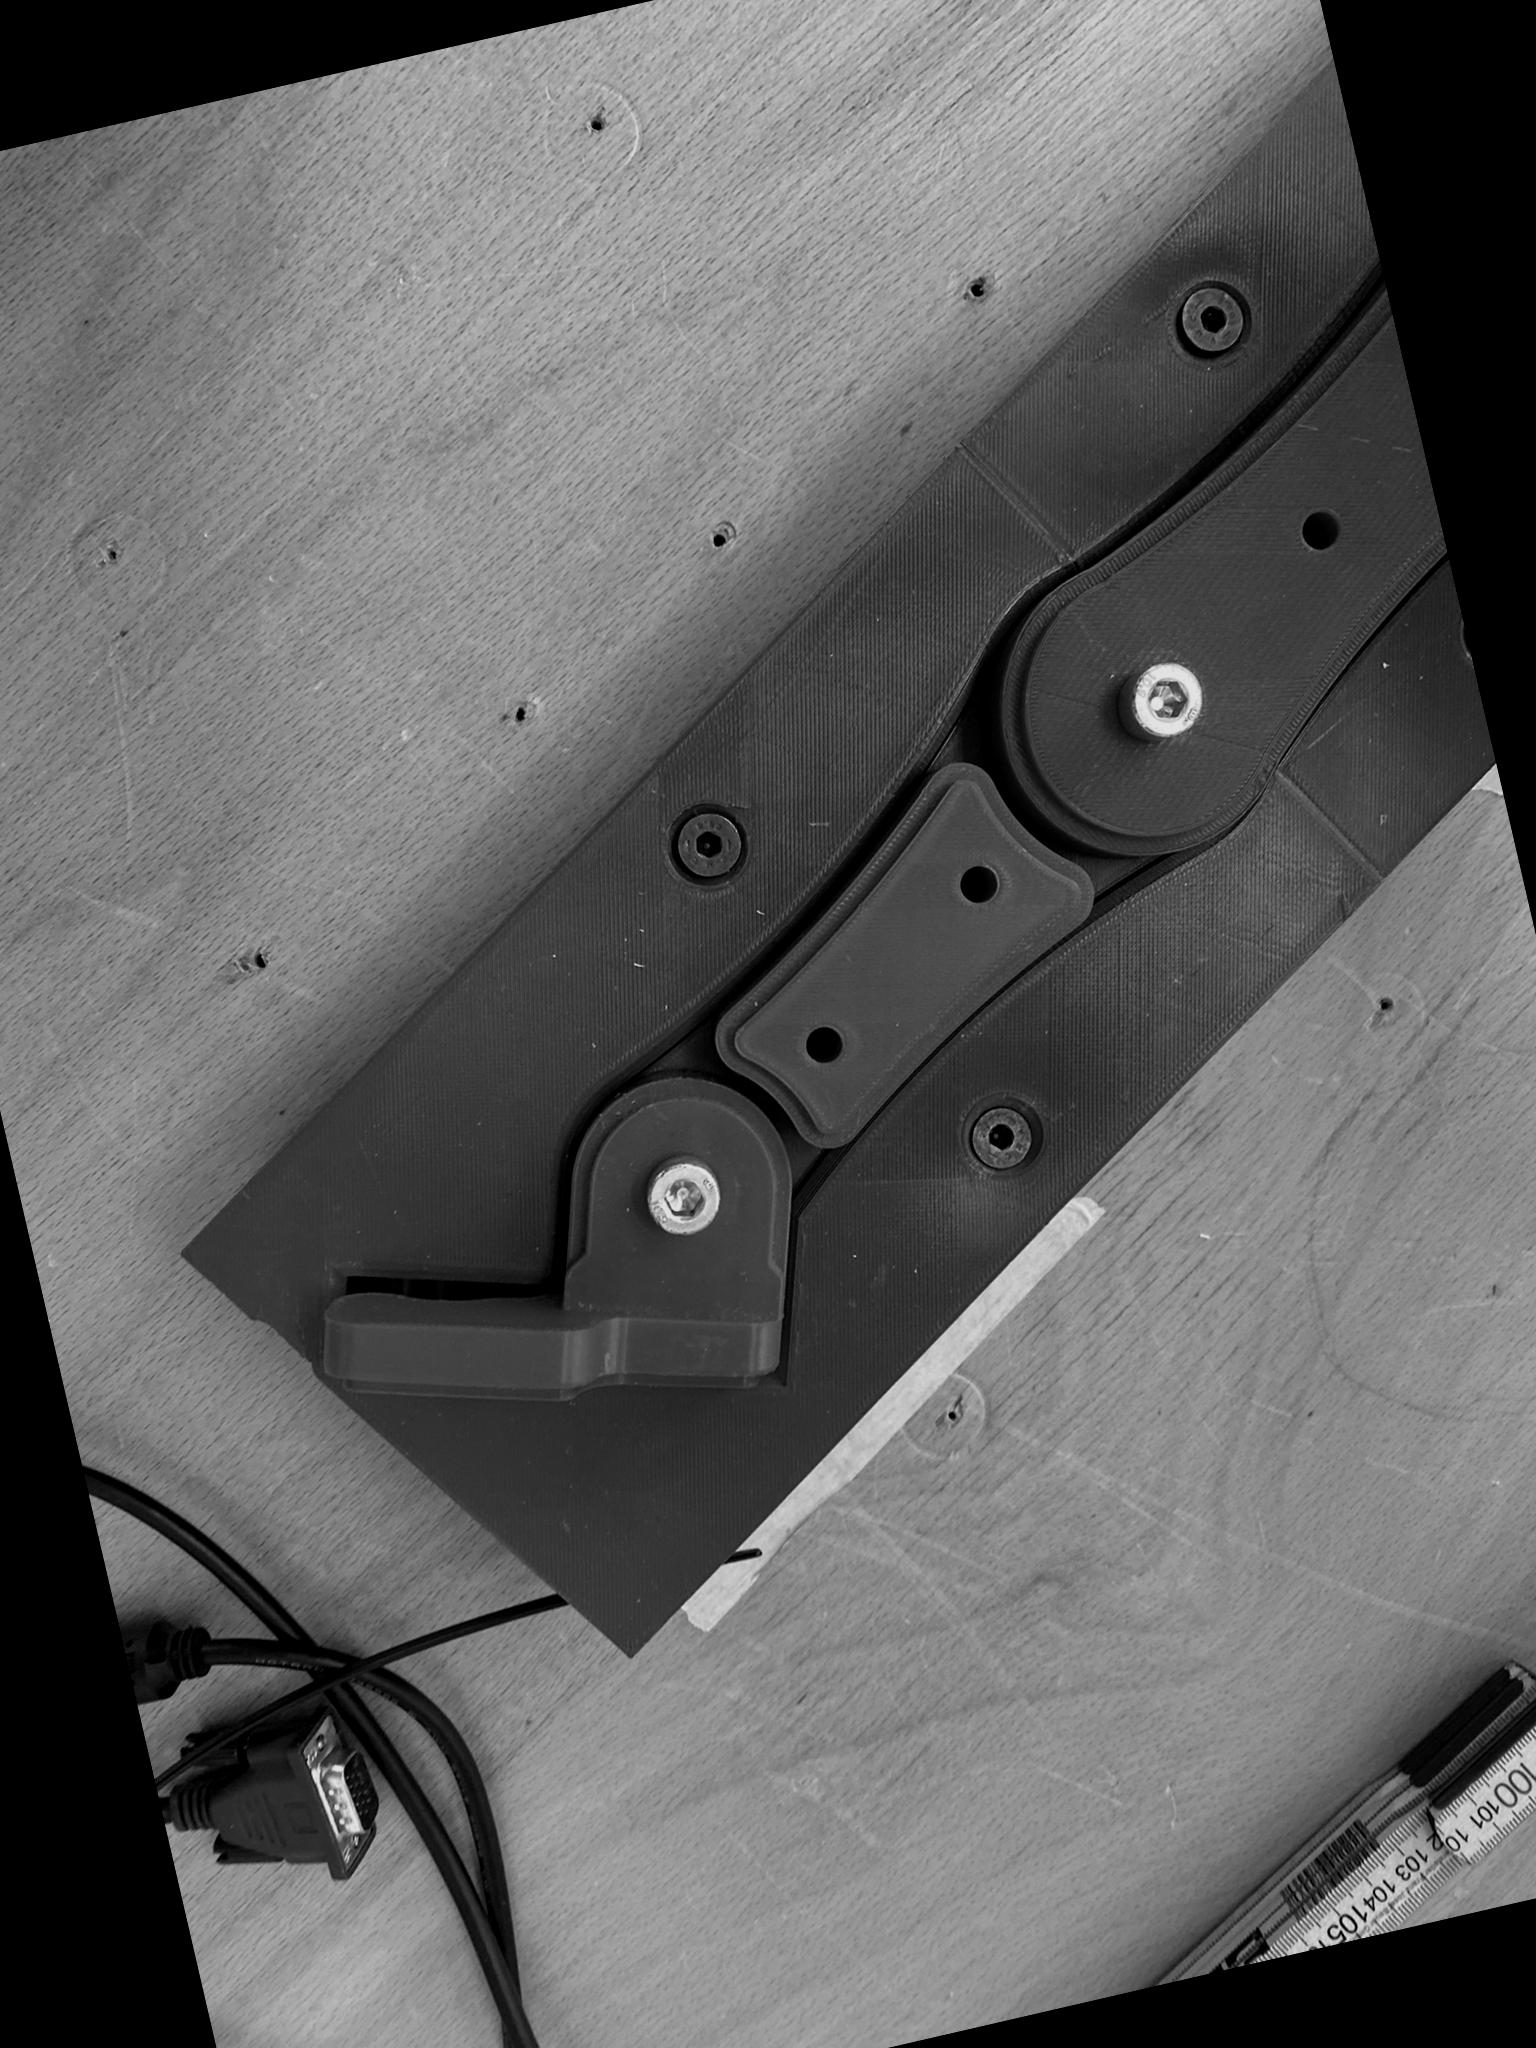allen: (636, 1150, 726, 1244), (1120, 655, 1210, 744), (665, 802, 749, 888), (1172, 276, 1252, 358), (961, 1098, 1040, 1175)
